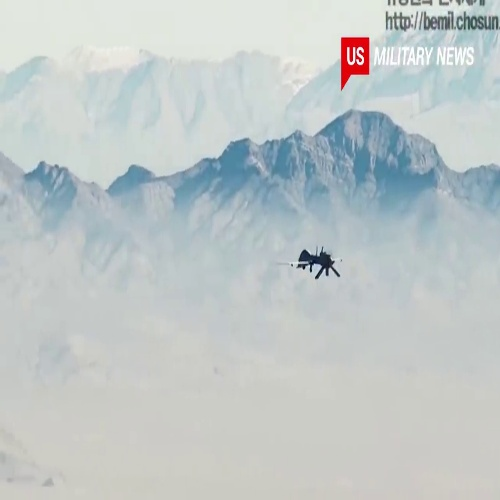uav121: (277, 247, 346, 283)
